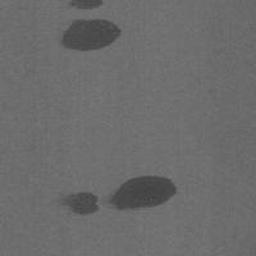Oil spot: (56, 174, 179, 218), (58, 17, 123, 52), (65, 0, 105, 12)
